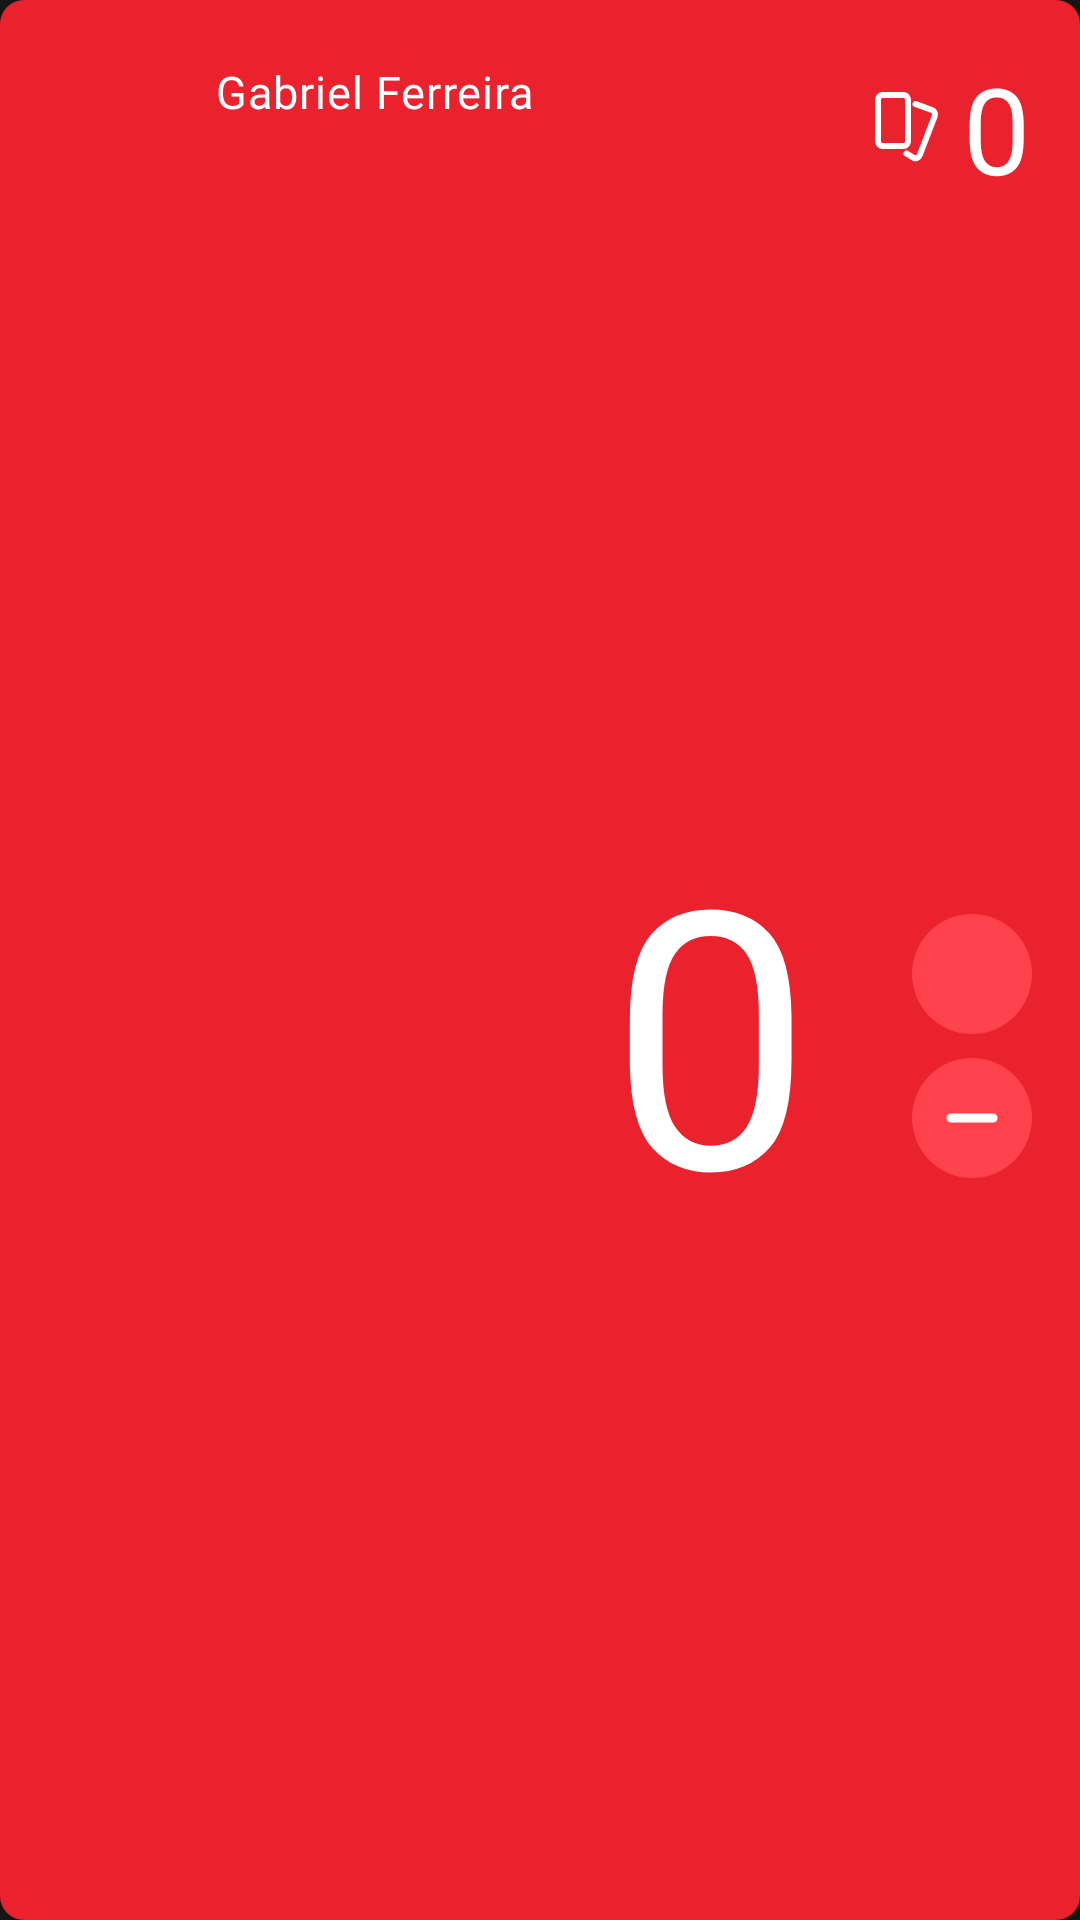

Screen size 1080×1920. Icon name, then its box in pixels as (x1, y1, x2, y2):
foul: (875, 92, 938, 162)
remove: (912, 1058, 1032, 1178)
